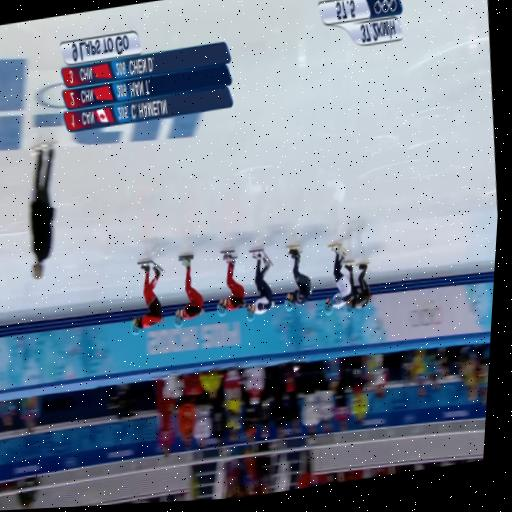Skater: (132, 260, 163, 333), (174, 254, 204, 327), (247, 250, 274, 321), (324, 244, 351, 314), (217, 251, 246, 316), (285, 245, 312, 310), (344, 261, 371, 313)
